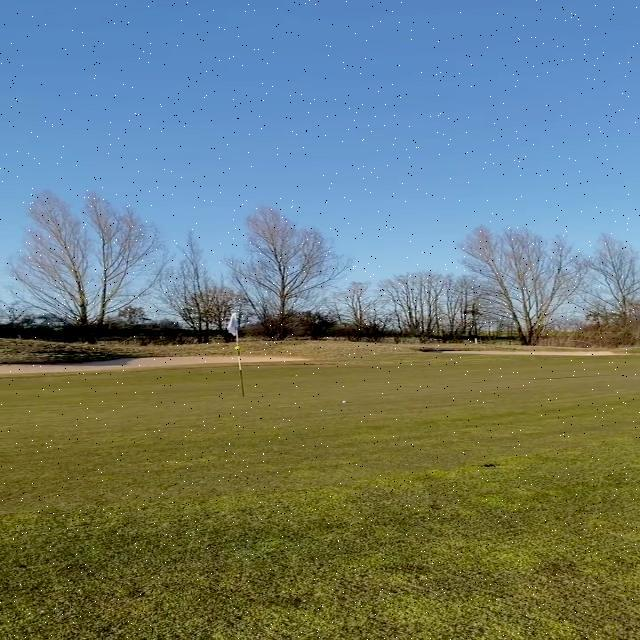golf ball: (343, 401, 347, 404), (296, 375, 298, 376)
